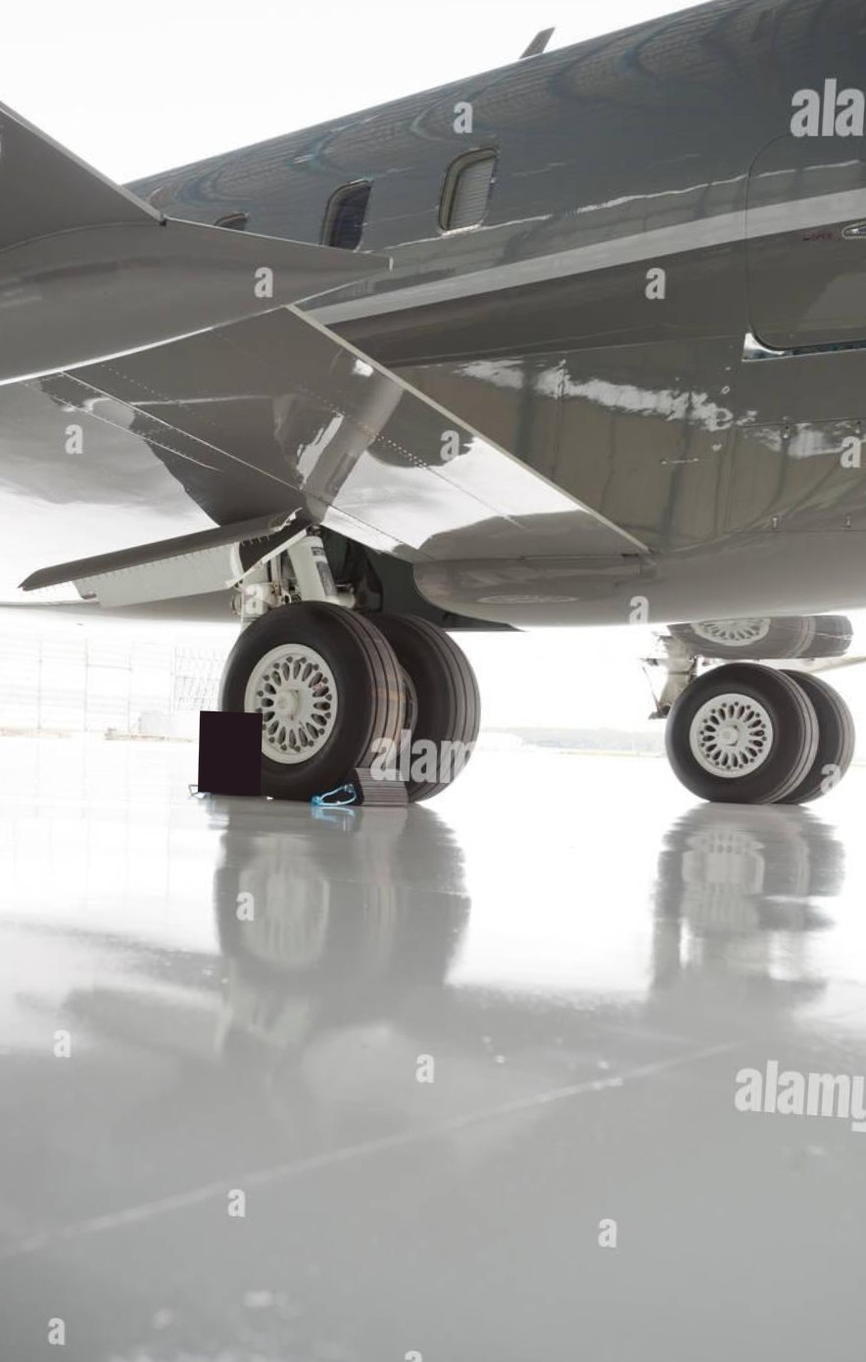chock: (317, 761, 419, 818), (194, 751, 281, 799)
wheel: (213, 599, 401, 801), (660, 659, 854, 808), (351, 615, 482, 805), (758, 669, 859, 802)
